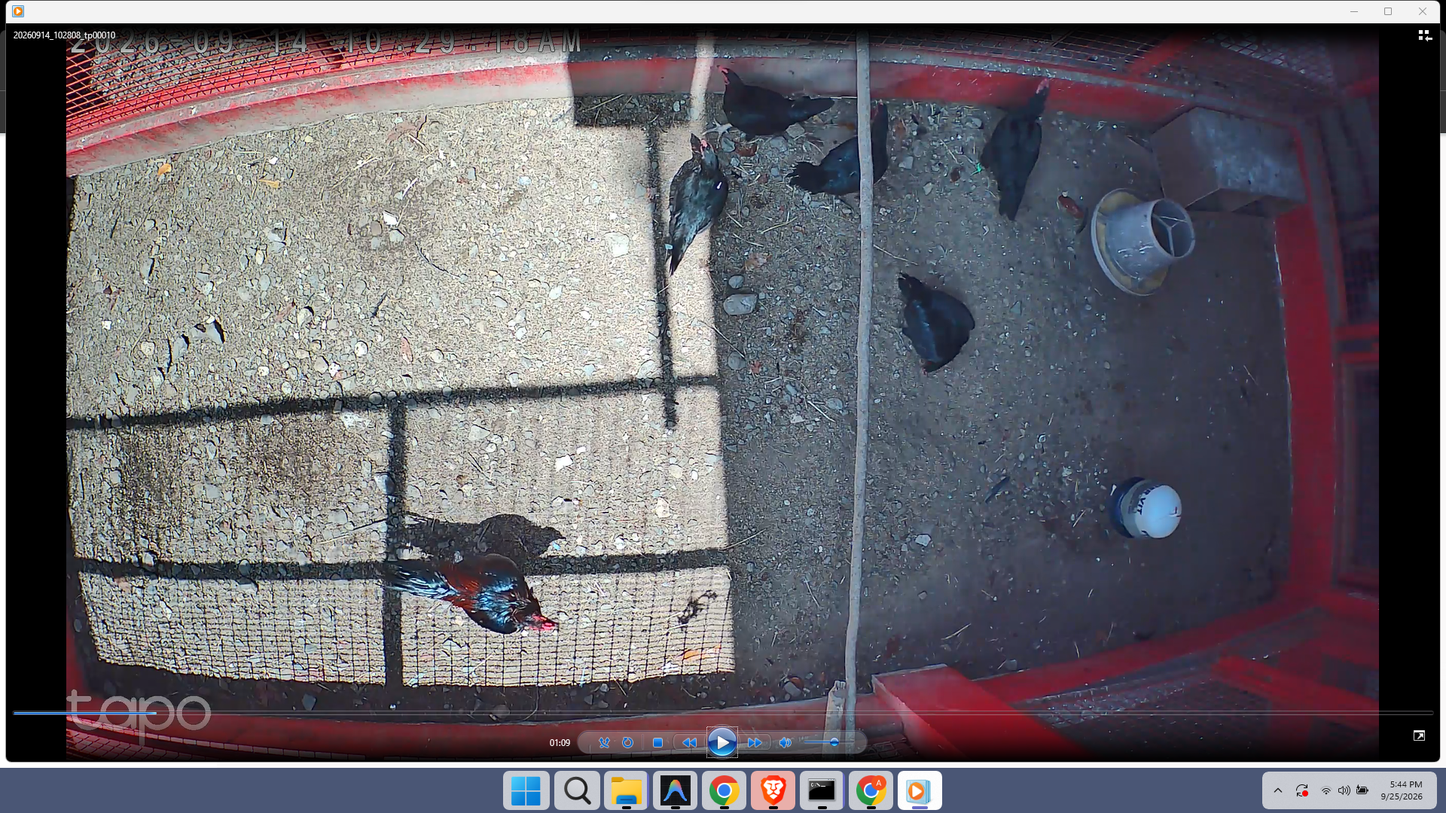Chicken: (968, 75, 1053, 224), (702, 58, 836, 151), (786, 93, 890, 198), (660, 135, 729, 276), (891, 269, 977, 375)
Drinker: (1110, 475, 1184, 540)
Feeder: (1090, 185, 1196, 297)
Rooster: (375, 553, 562, 637)
